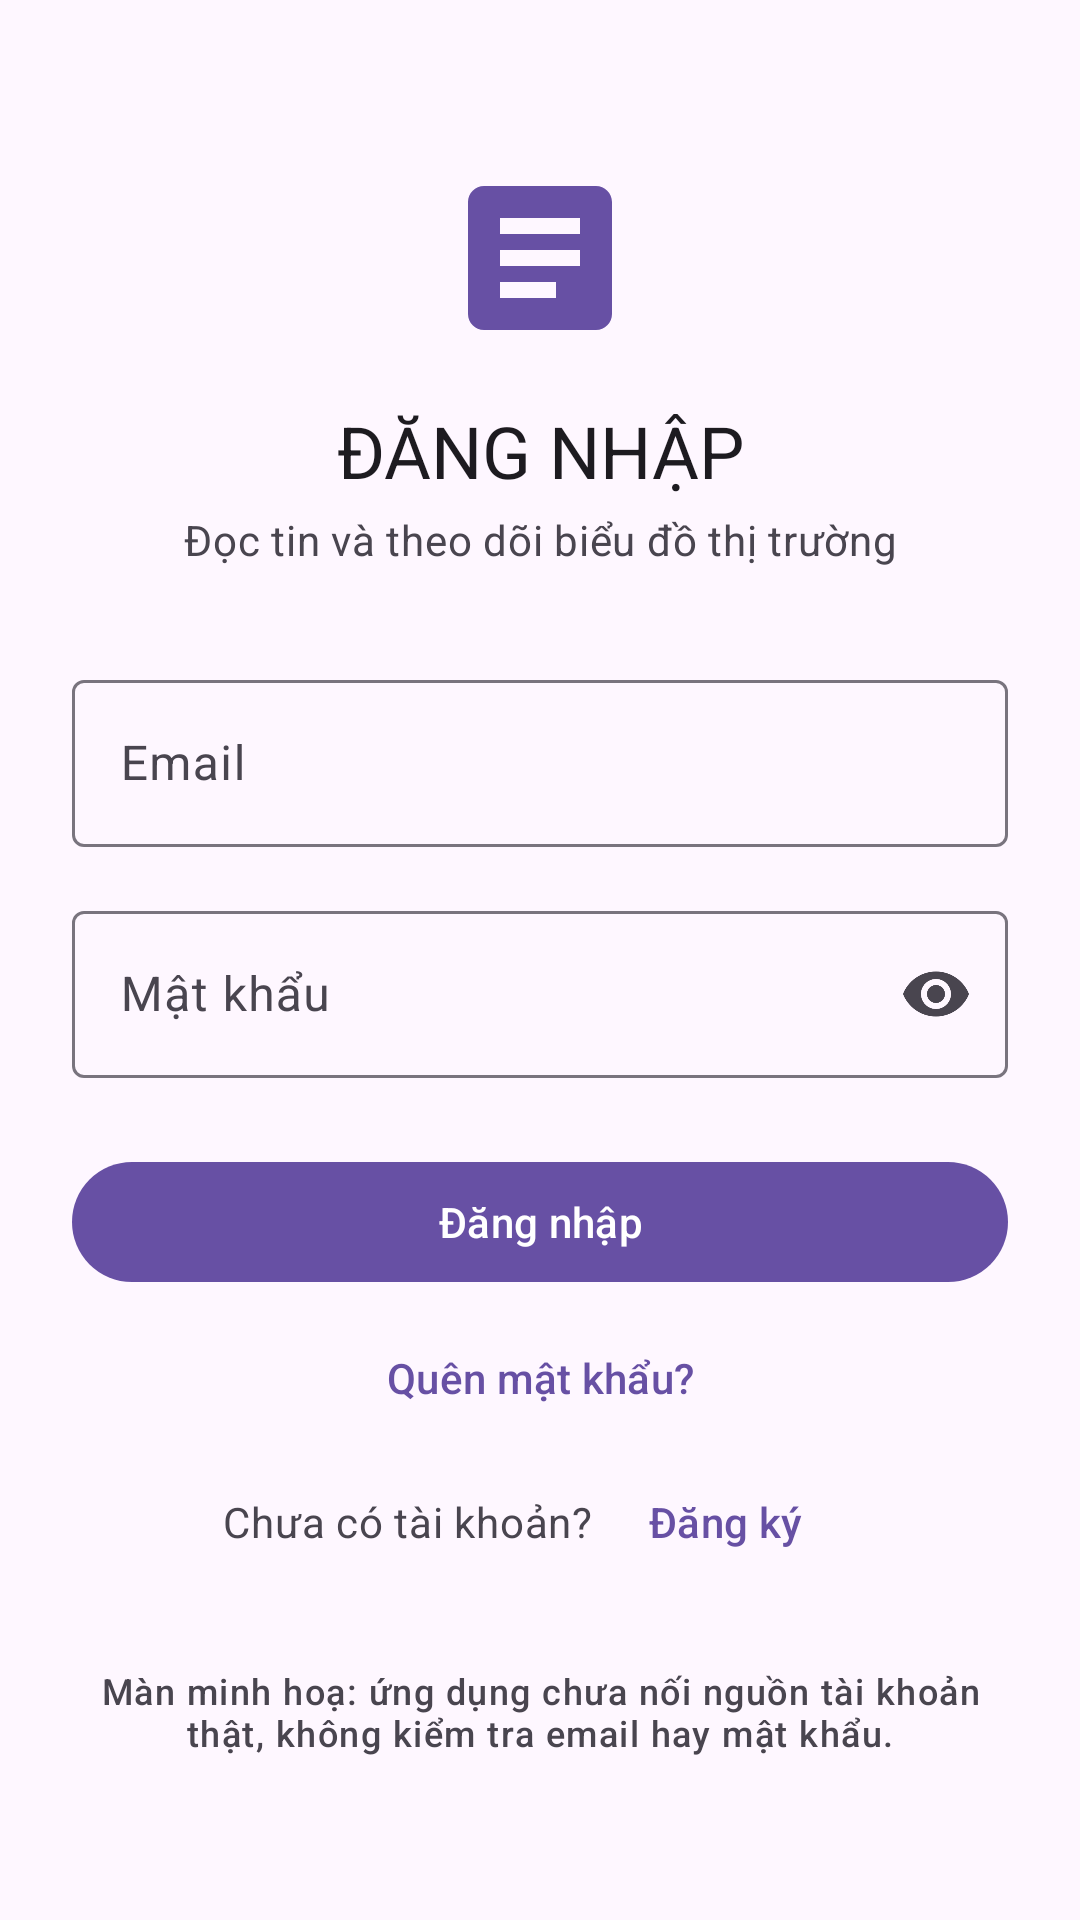

Locate icon controls on the screen. Image size 1080w x 1920h, boxes as (x1, y1, x2, y2).
article: (468, 186, 612, 330)
